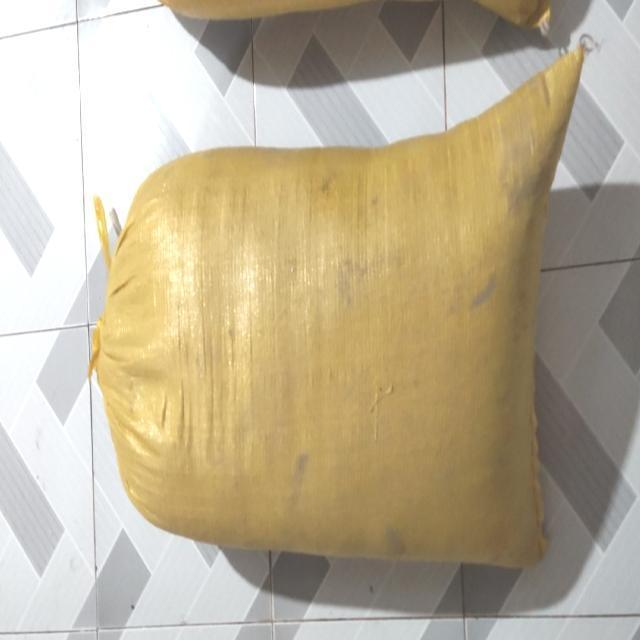gunny_bag: (95, 46, 585, 567)
